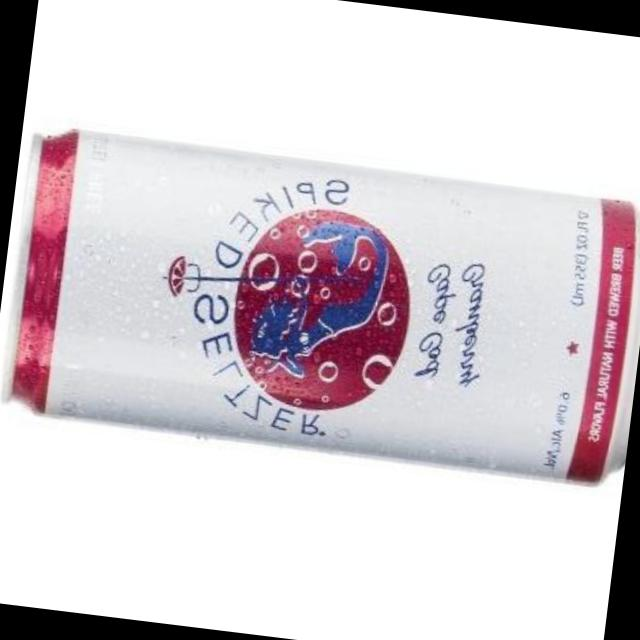metal: (3, 128, 640, 480)
